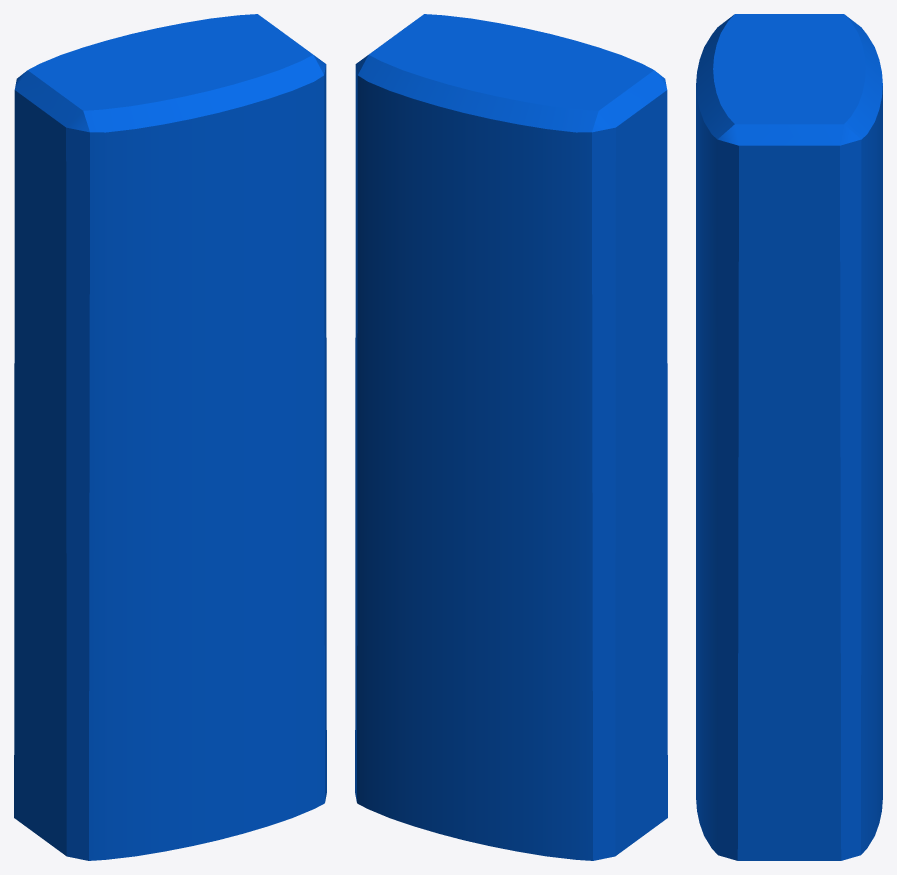
File: Building_02_Blue.fbx
3 renders of one model, left to right at view 1: azimuth 30°, elevation 25°; view 2: azimuth 150°, elevation 25°; view 3: azimuth 270°, elevation 25°, orthographic.
Parts seen in each view (by area): view 1: Building02_Blue; view 2: Building02_Blue; view 3: Building02_Blue.
Boxes of the visible parts, left/top/right/bottom form: Building02_Blue: left=14, top=14, right=326, bottom=860; Building02_Blue: left=355, top=14, right=667, bottom=860; Building02_Blue: left=696, top=14, right=882, bottom=860.
Bounding box in the file's own units: 1435 × 3918 × 910.
